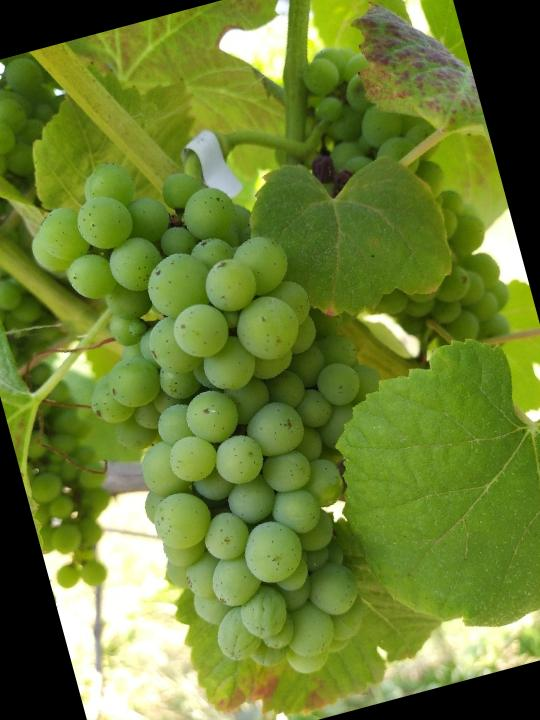grape: (13, 106, 457, 720)
